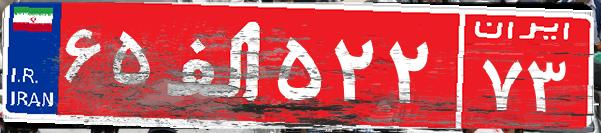2: (385, 28, 445, 110), (330, 28, 385, 110)
3: (525, 38, 570, 115)
5: (273, 28, 330, 110), (110, 28, 158, 105)
6: (57, 26, 110, 107)
7: (475, 38, 525, 113)
الف: (158, 15, 273, 115)
